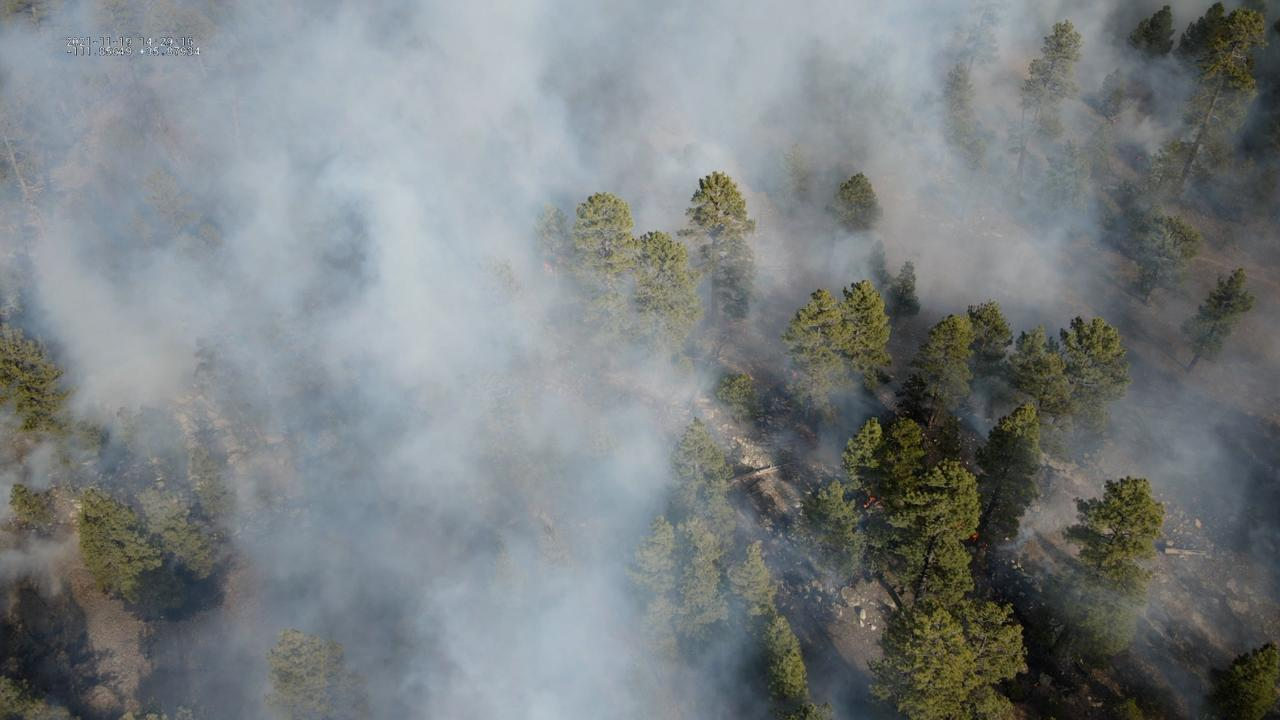fire: (862, 495, 877, 511), (970, 531, 980, 543)
smoke: (0, 0, 1280, 720)
